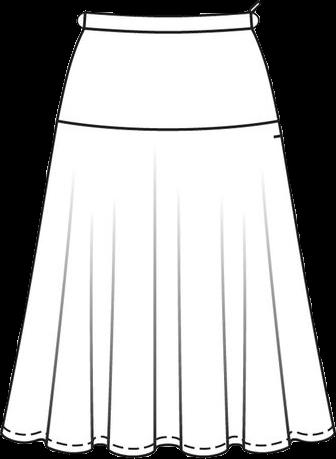Hemline: (0, 430, 335, 458)
Waistline: (54, 116, 281, 133), (83, 24, 252, 35), (84, 9, 255, 17)
